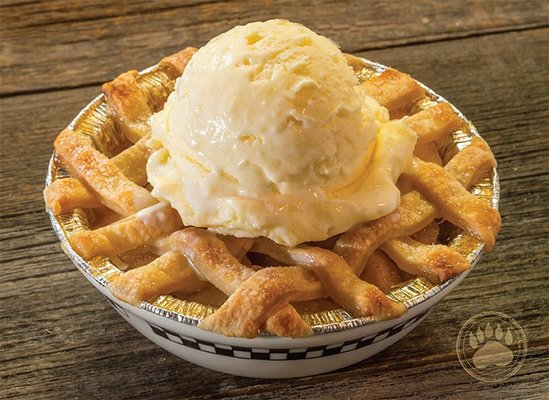sushi: (44, 10, 523, 384)
